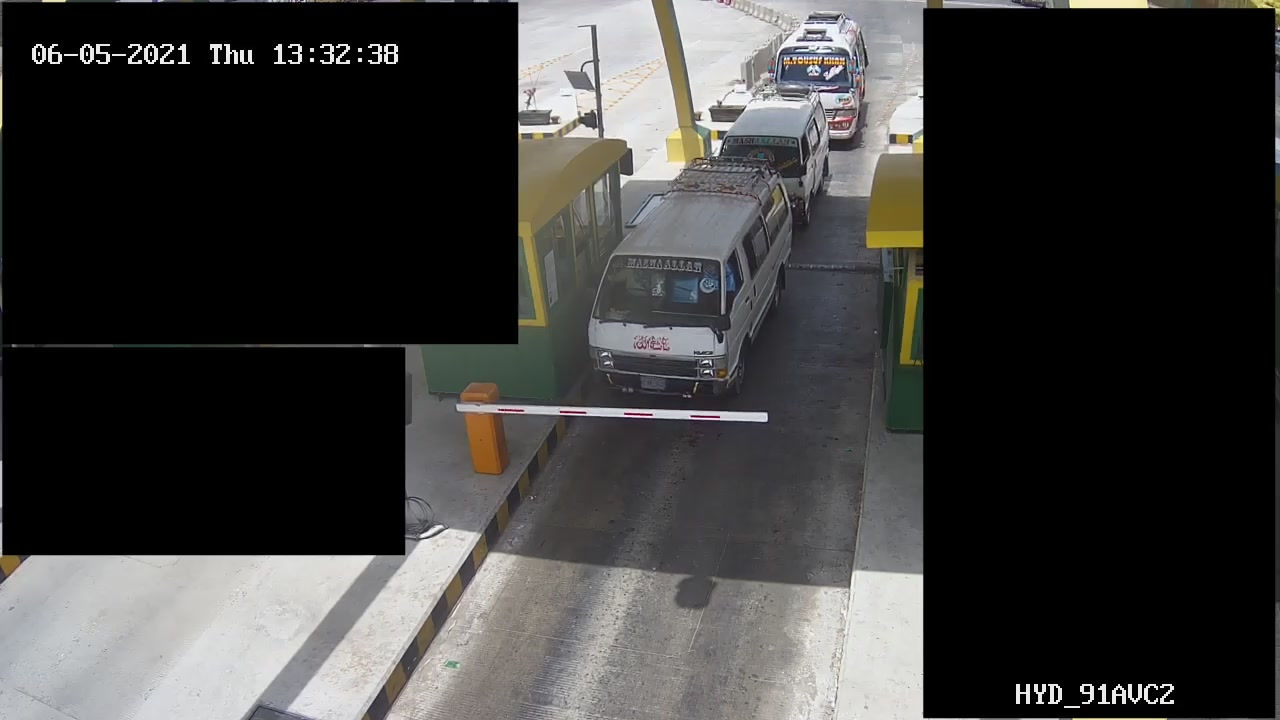F2: (584, 157, 789, 403)
